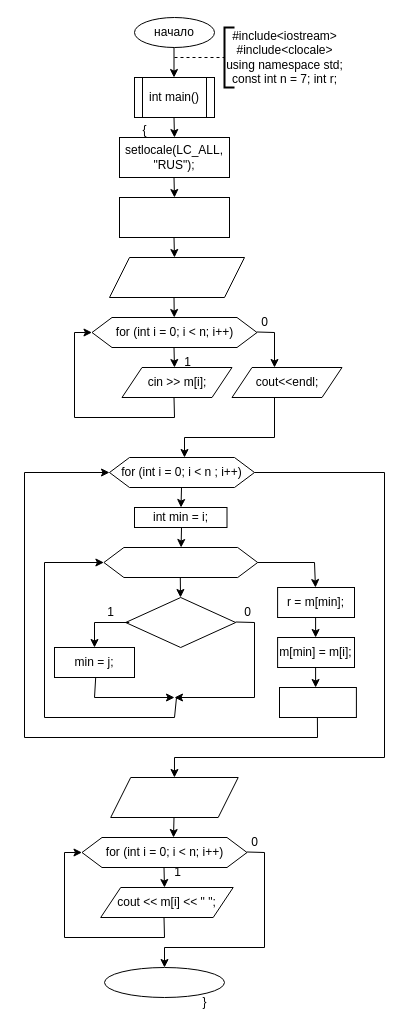
This 410x1035 diagram has some shape labels left out. The shapes that lost their labels are listed below. From the top down, each one's centre as x and y in pixels, then its label:
point 174,217: int m[n] = {};
point 176,277: cout << "исходный массив ";
point 180,562: for (int j = i + 1; j < n; j++)
point 180,622: if (m[j] < m[min])
point 317,702: m[i] = r;
point 174,797: cout << "отсортированный массив ";
point 164,982: return 0;
